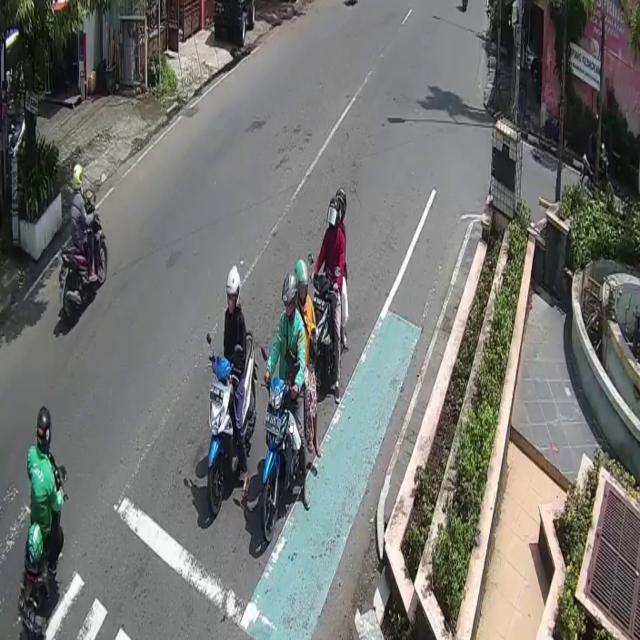bus: (259, 344, 317, 547), (205, 331, 259, 519), (17, 452, 69, 640), (59, 188, 110, 325), (308, 260, 347, 418), (581, 144, 614, 206)
